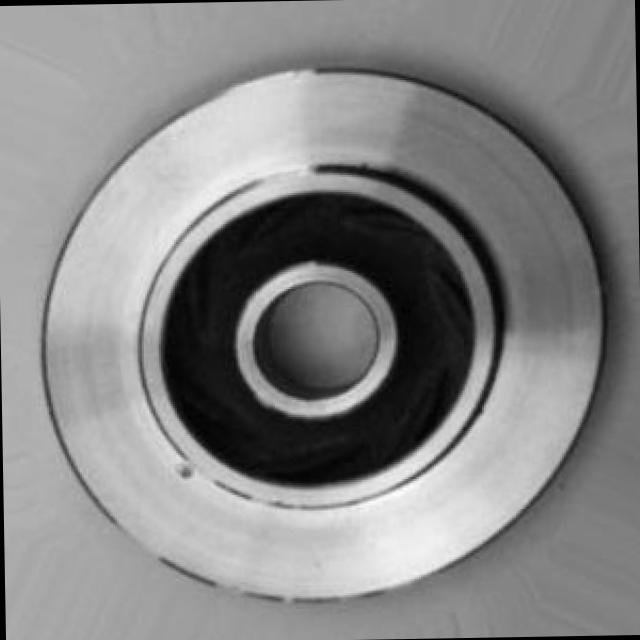Defect: (170, 456, 212, 494)
